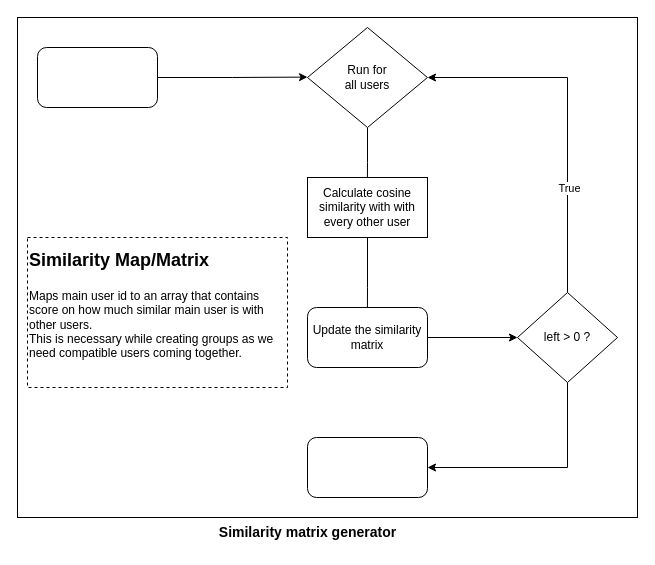
This 655x565 diagram has some shape labels left out. The centre of each missing label's shape, as x and y in pixels:
"Cache the matrix in redis server" goes at (367,467).
"User Data (with vectors)" goes at (97,77).
